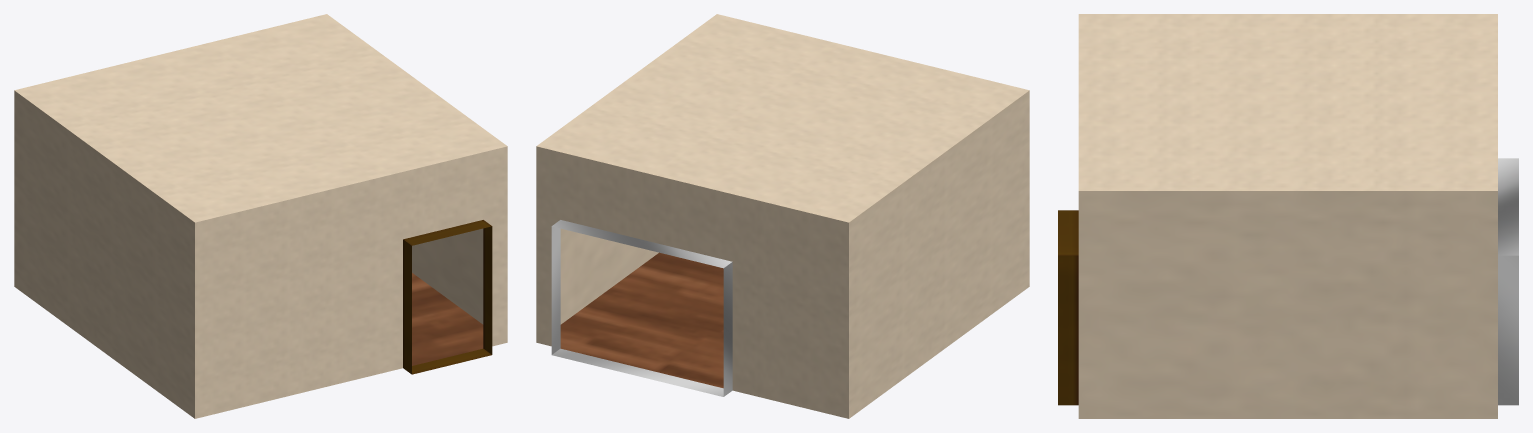
File: roomparts.fbx
The picture shows the model from 3 angles, left to right: view 1: azimuth 30°, elevation 25°; view 2: azimuth 150°, elevation 25°; view 3: azimuth 270°, elevation 25°; orthographic projection. The views are drawn at different scales.
Parts seen in each view (by area): view 1: polySurface30; view 2: polySurface30; view 3: polySurface30.
Part boxes in pixels (left/top/right/bottom): polySurface30: left=14, top=14, right=507, bottom=418; polySurface30: left=536, top=14, right=1029, bottom=418; polySurface30: left=1058, top=14, right=1518, bottom=418.
Bounding box in the file's own units: 25 × 15 × 27.5.
